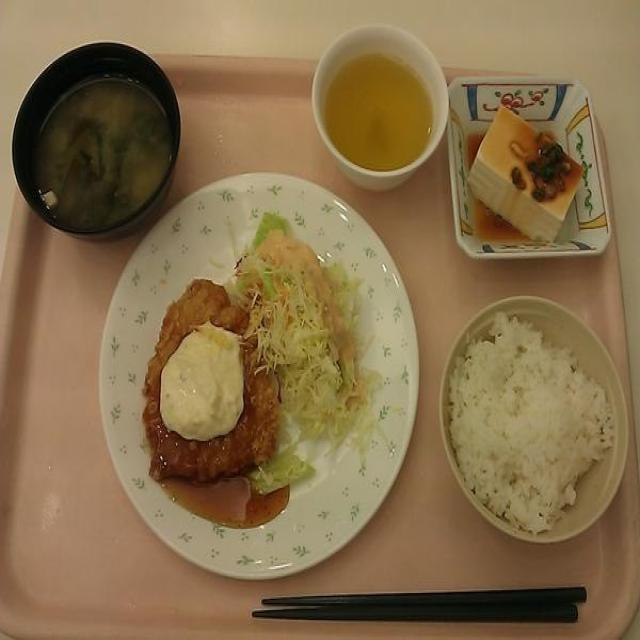Rice: (447, 310, 611, 525)
